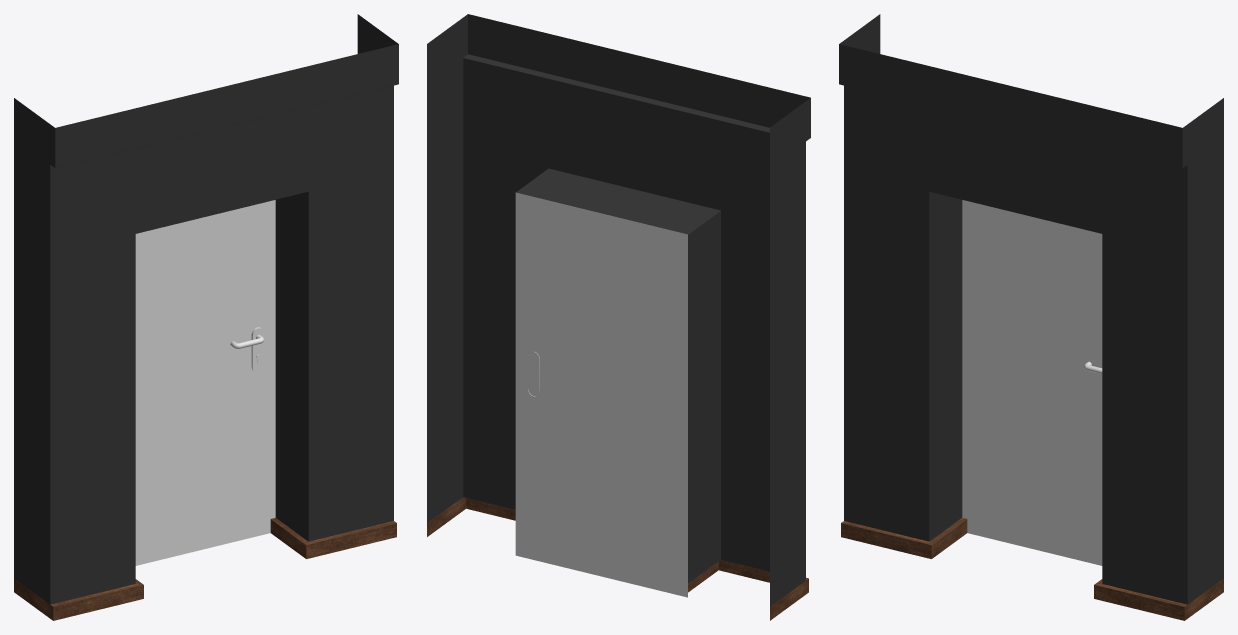
Rendered from Walls_door.fbx.
3 renders of one model, left to right at view 1: azimuth 30°, elevation 25°; view 2: azimuth 150°, elevation 25°; view 3: azimuth 330°, elevation 25°, orthographic.
Parts seen in each view (by area): view 1: Wand_door, door; view 2: Wand_door, door; view 3: Wand_door, door.
Part boxes in pixels (x1,y1,x2,y2): Wand_door: (14, 14, 398, 620); door: (135, 200, 275, 565); Wand_door: (427, 14, 810, 620); door: (515, 192, 687, 597); Wand_door: (839, 14, 1223, 620); door: (962, 200, 1102, 565).
Bounding box in the file's own units: 200 × 275 × 41.39.
